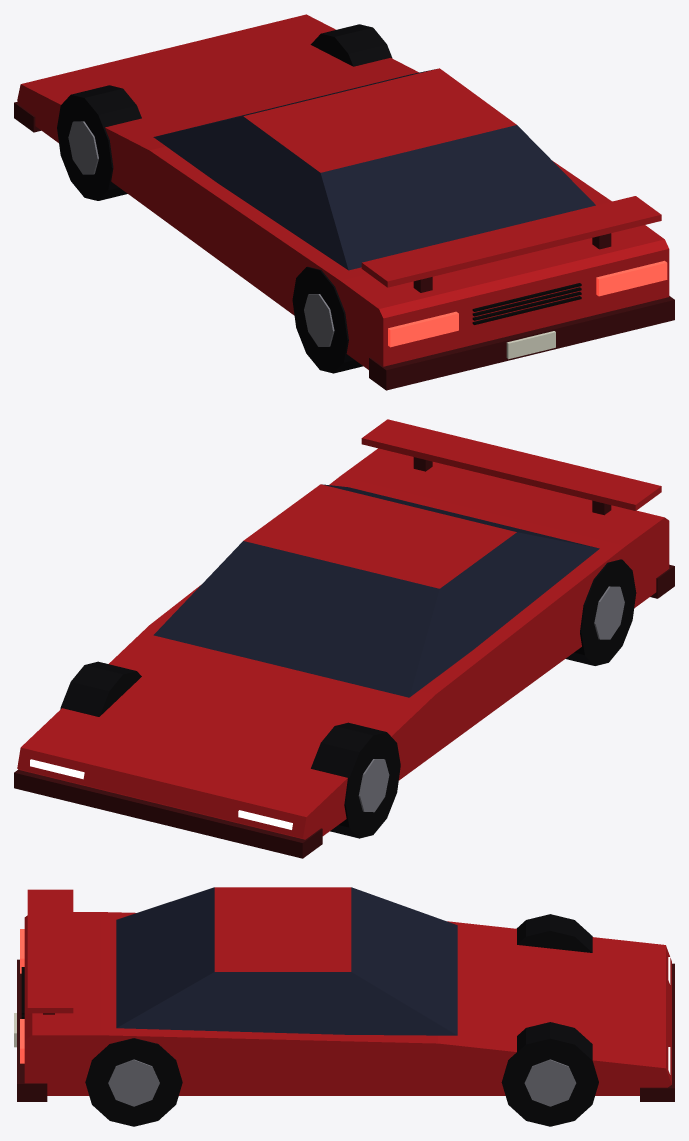
File: car.glb
3 renders of one model, top to bottom at view 1: azimuth 30°, elevation 25°; view 2: azimuth 150°, elevation 25°; view 3: azimuth 270°, elevation 25°, orthographic. The views are drawn at different scales.
Visible parts, largest first — view 1: car; view 2: car; view 3: car.
Part boxes in pixels (x1,y1,x2,y2): car: (14, 14, 674, 390); car: (14, 419, 674, 858); car: (14, 887, 674, 1126).
Size of the model in its own units: 1.96 by 0.98 by 4.35.
